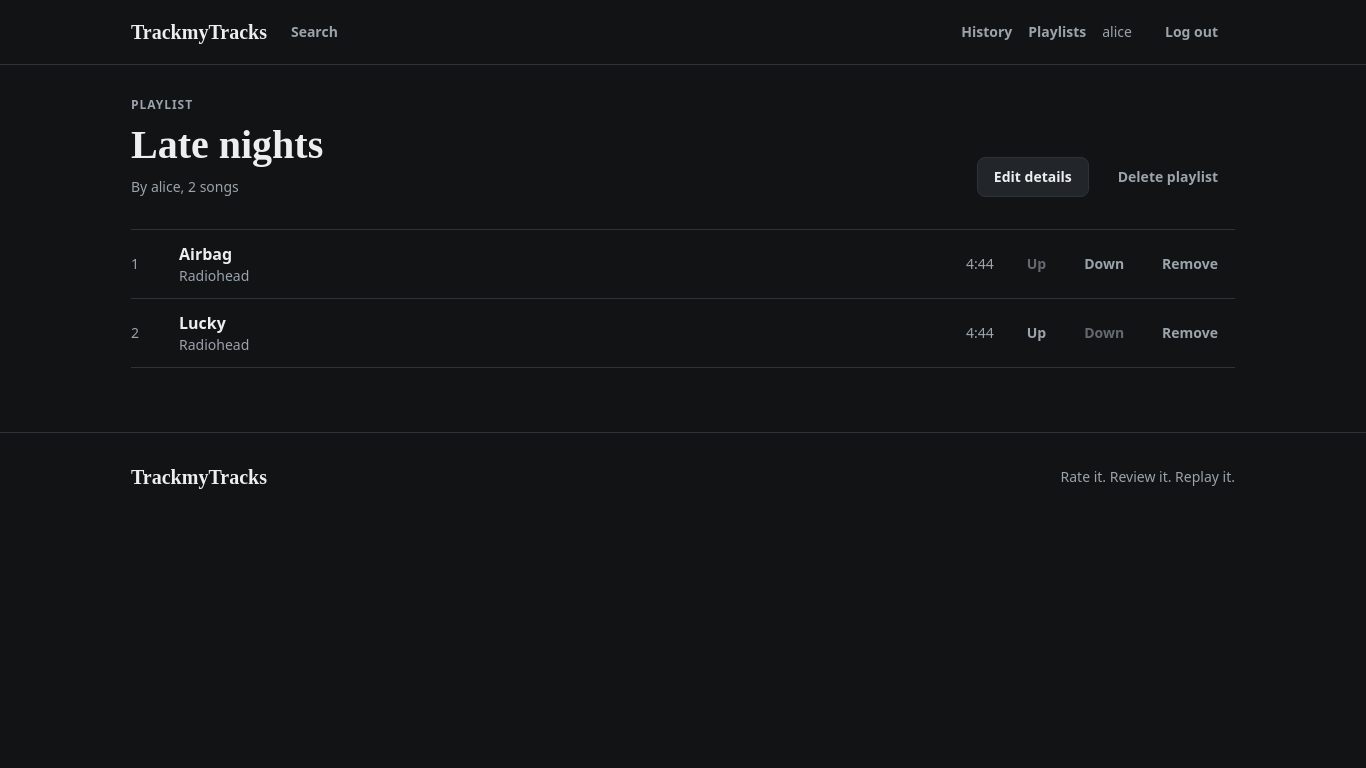
Test: playlist reordering › shows only the latest song failure with a specific title
Click the button with aria-label "Move Lucky up" at (1036, 333), box x1=1010 y1=313 x2=1063 y2=353
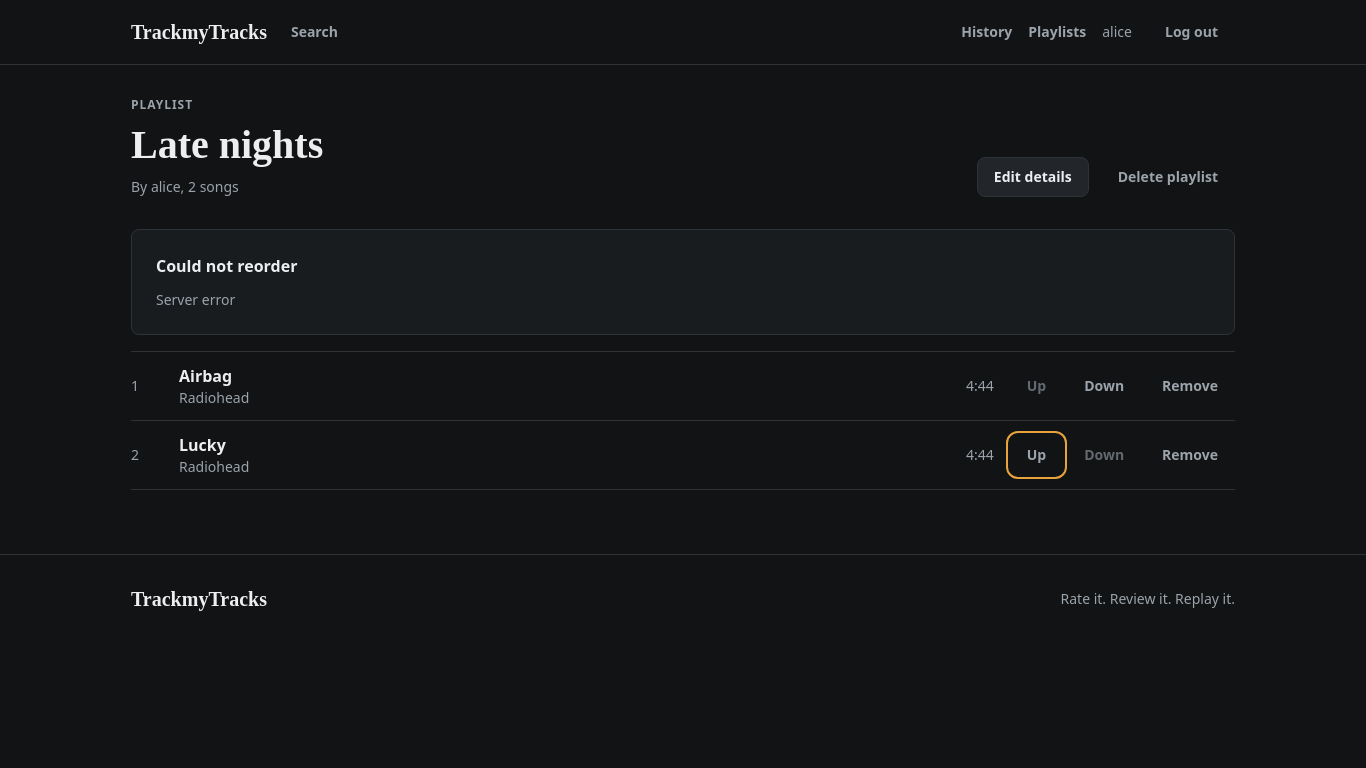
Expected: the text "Could not reorder" is shown, x1=156 y1=254 x2=297 y2=278
Click the button with aria-label "Remove Airbag" at (1190, 386), box x1=1145 y1=366 x2=1235 y2=406
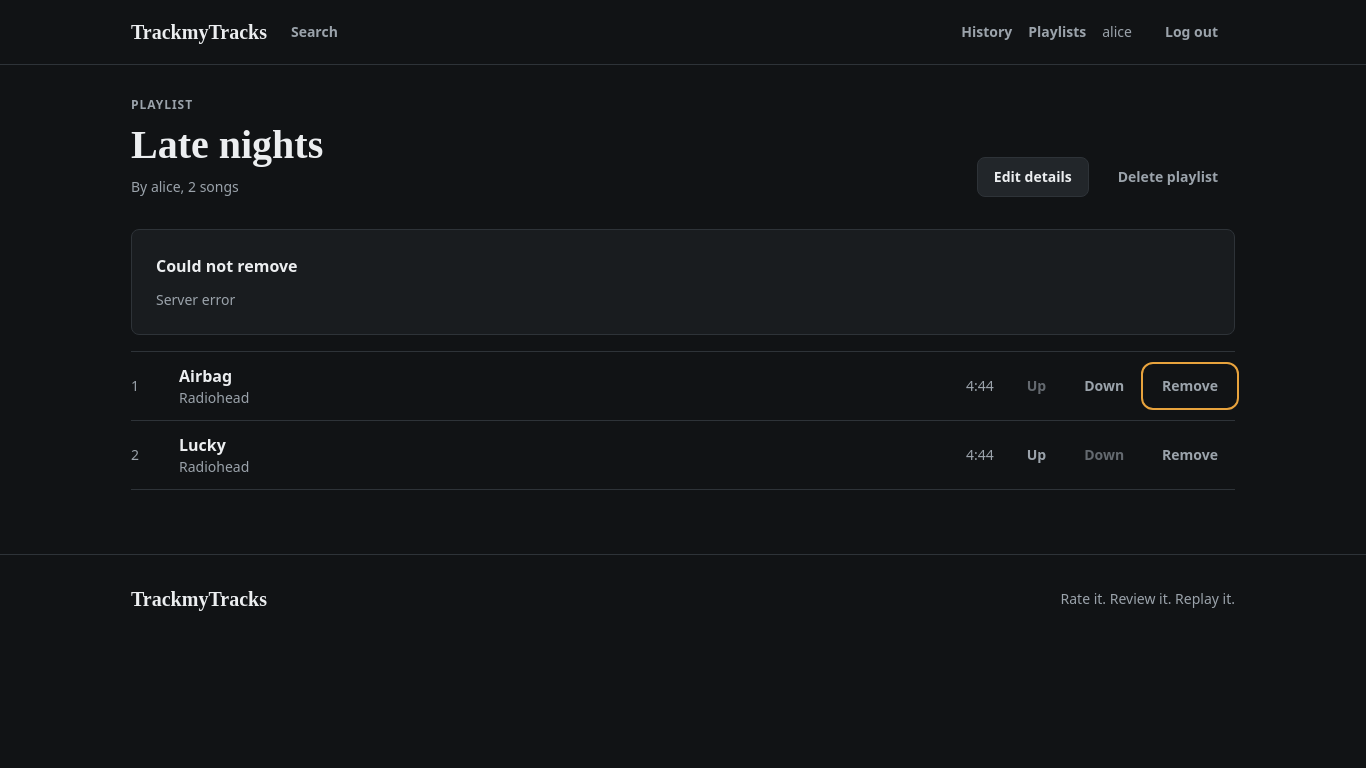
Expected: the number of messages is 1, x1=131 y1=229 x2=1235 y2=335
Expected: the text "Could not remove" is shown, x1=156 y1=254 x2=298 y2=278
Expected: the text "Could not reorder" is gone
